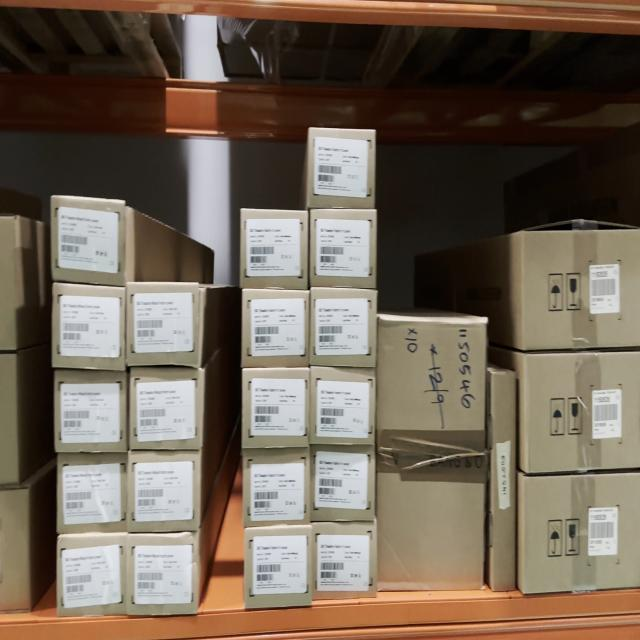box: (378, 321, 486, 589), (523, 233, 640, 348), (526, 358, 640, 466), (524, 480, 640, 584), (54, 285, 126, 370), (58, 536, 128, 617), (128, 287, 201, 363), (53, 207, 130, 279), (129, 453, 199, 530), (132, 370, 200, 448), (58, 456, 128, 531), (242, 290, 309, 368), (129, 535, 196, 613), (57, 375, 126, 449), (309, 131, 375, 207), (247, 530, 312, 607), (240, 213, 308, 286), (243, 374, 309, 446), (244, 452, 310, 524), (492, 373, 514, 588), (311, 213, 375, 285), (312, 448, 375, 520), (311, 292, 375, 362), (312, 370, 374, 442), (314, 524, 376, 595)
